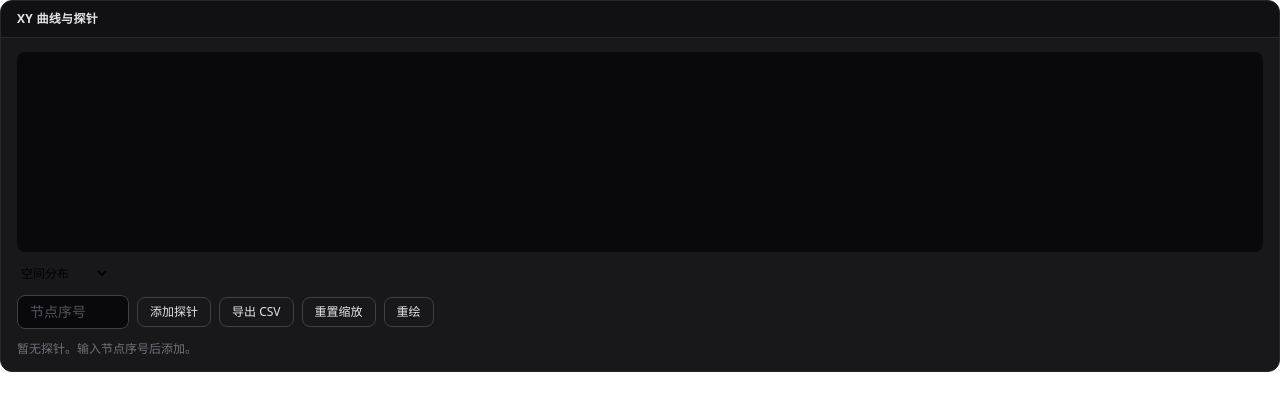
XyChartPanel › 输入节点序号添加探针：圆点与值标注绘制在曲线上，输入框清空
The width and height of the screenshot is (1280, 413).
Type "1" into the field with placeholder "节点序号" at (73, 312), box [17,295,129,329]
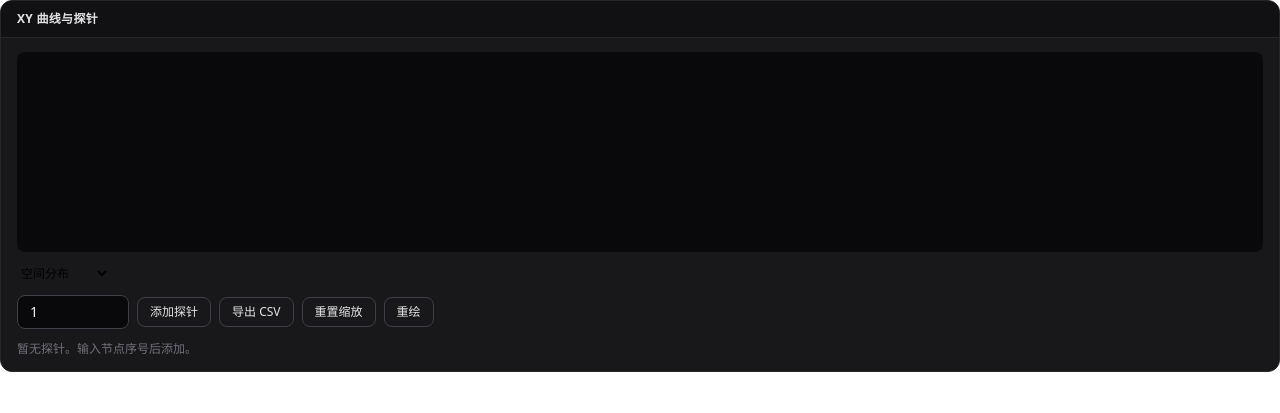
Click the button "添加探针" at (174, 312), box [137,297,211,327]
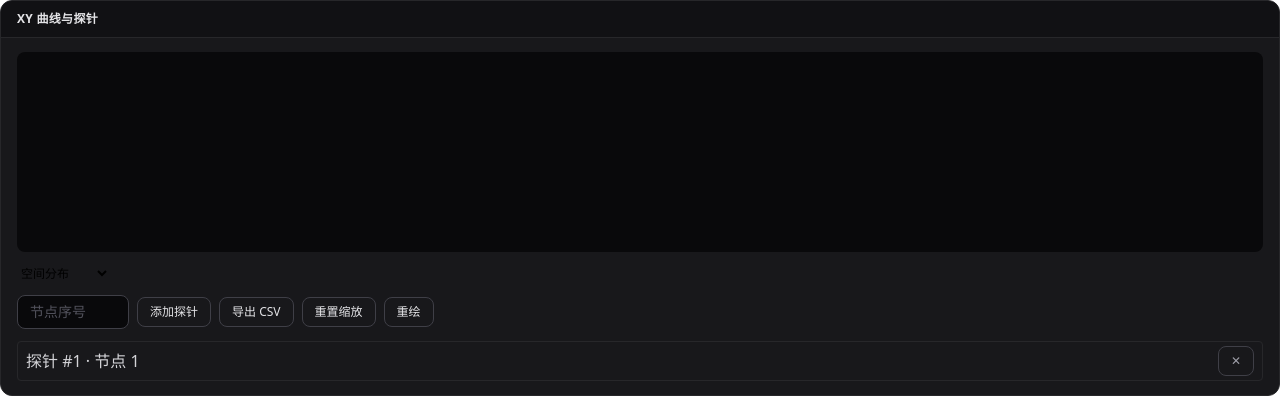
Expected: the field with placeholder "节点序号" is empty, [17,295,129,329]
Expected: the text "节点 1" is shown, [26,350,140,372]
